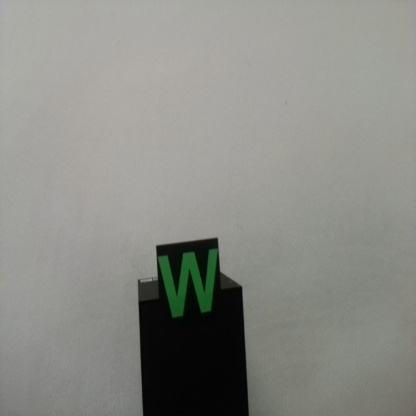id_12: (156, 244, 221, 326)
